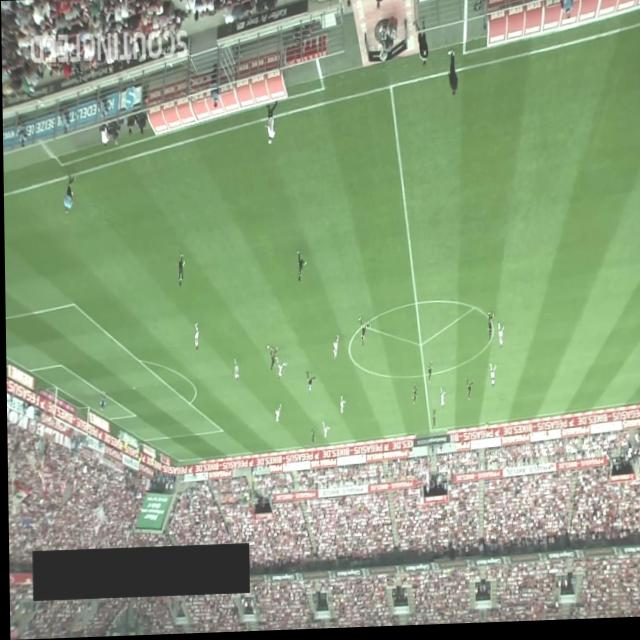goalkeeper: (96, 390, 104, 414)
player: (356, 316, 370, 349), (295, 251, 305, 284), (175, 255, 183, 289), (266, 347, 276, 372), (485, 314, 493, 344), (495, 325, 503, 352), (487, 366, 495, 390), (331, 335, 338, 361), (275, 361, 284, 381), (464, 380, 471, 403), (231, 359, 238, 381), (272, 405, 280, 424), (319, 423, 327, 441), (438, 390, 444, 411), (428, 411, 434, 431), (193, 323, 197, 352), (338, 398, 344, 416), (410, 388, 415, 408), (426, 365, 431, 384), (309, 429, 314, 445)
referee: (62, 173, 75, 214), (303, 372, 314, 396), (482, 424, 486, 444)
